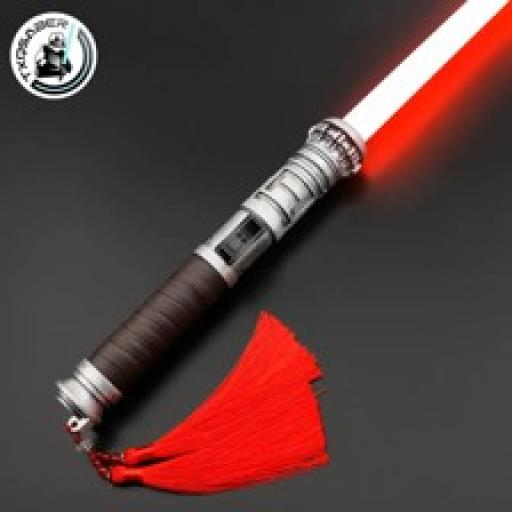lightsaber: (51, 0, 512, 421)
